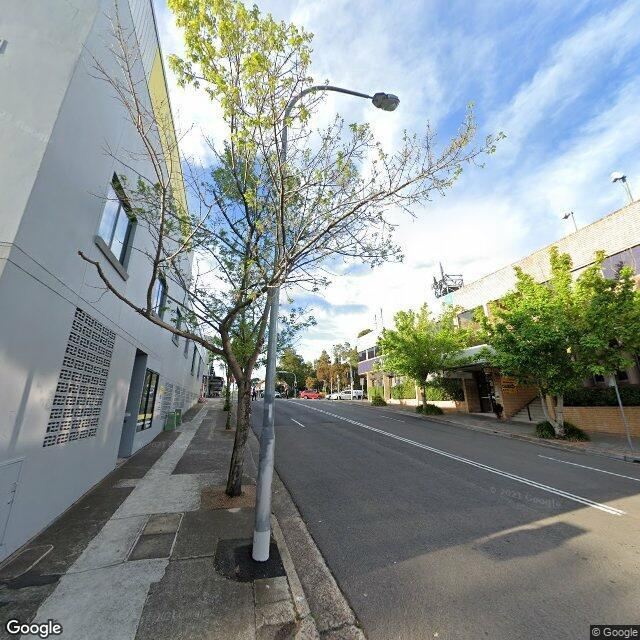steel-pole: (252, 158, 288, 561)
streetlight: (280, 85, 400, 158)
